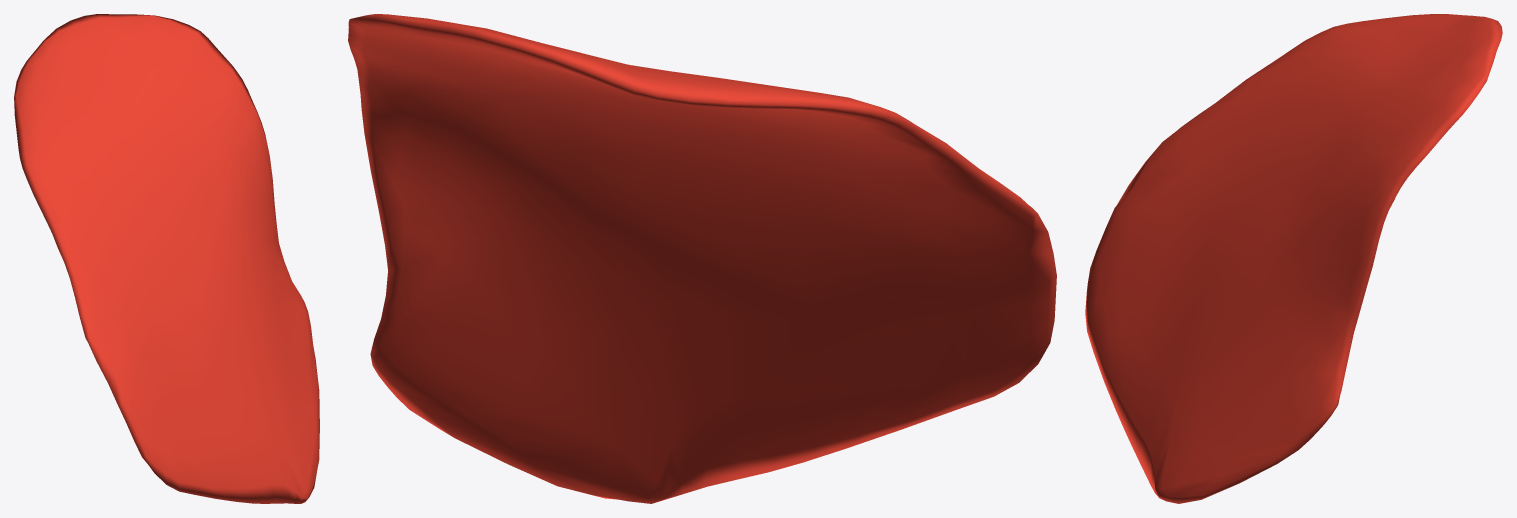
Rendered from Sternocleidomastoid_muscle-Sternal_insertion.l_Generated_Mesh_F.glb.
3 renders of one model, left to right at view 1: azimuth 30°, elevation 25°; view 2: azimuth 150°, elevation 25°; view 3: azimuth 270°, elevation 25°, orthographic. The views are drawn at different scales.
Visible parts, largest first — view 1: Sternocleidomastoid_muscle-Sternal_insertion.l_Generated_Mes; view 2: Sternocleidomastoid_muscle-Sternal_insertion.l_Generated_Mes; view 3: Sternocleidomastoid_muscle-Sternal_insertion.l_Generated_Mes.
Boxes of the visible parts, x1=… form: Sternocleidomastoid_muscle-Sternal_insertion.l_Generated_Mes: x1=14, y1=14, x2=319, y2=503; Sternocleidomastoid_muscle-Sternal_insertion.l_Generated_Mes: x1=348, y1=14, x2=1056, y2=503; Sternocleidomastoid_muscle-Sternal_insertion.l_Generated_Mes: x1=1085, y1=14, x2=1502, y2=503.
Size of the model in its own units: 0.0149 by 0.0186 by 0.0164.
